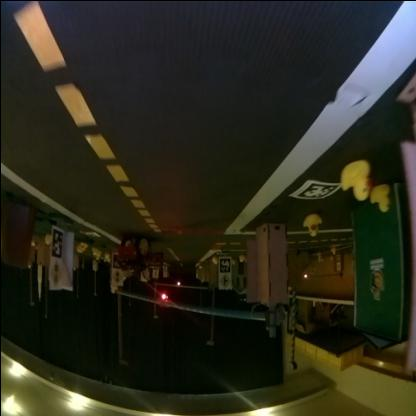Duckie: (340, 160, 369, 200), (370, 184, 388, 212), (302, 213, 320, 237), (329, 247, 335, 255), (79, 242, 85, 250), (237, 254, 243, 262), (90, 247, 96, 255), (210, 257, 216, 264)
Duckiebot: (116, 235, 162, 269)
Intersection sign: (219, 274, 228, 288)
QR code: (288, 180, 338, 198), (50, 229, 62, 258), (219, 258, 228, 272)
Signal sign: (49, 262, 60, 287)
Traffic light: (158, 293, 166, 307), (175, 281, 179, 288)
